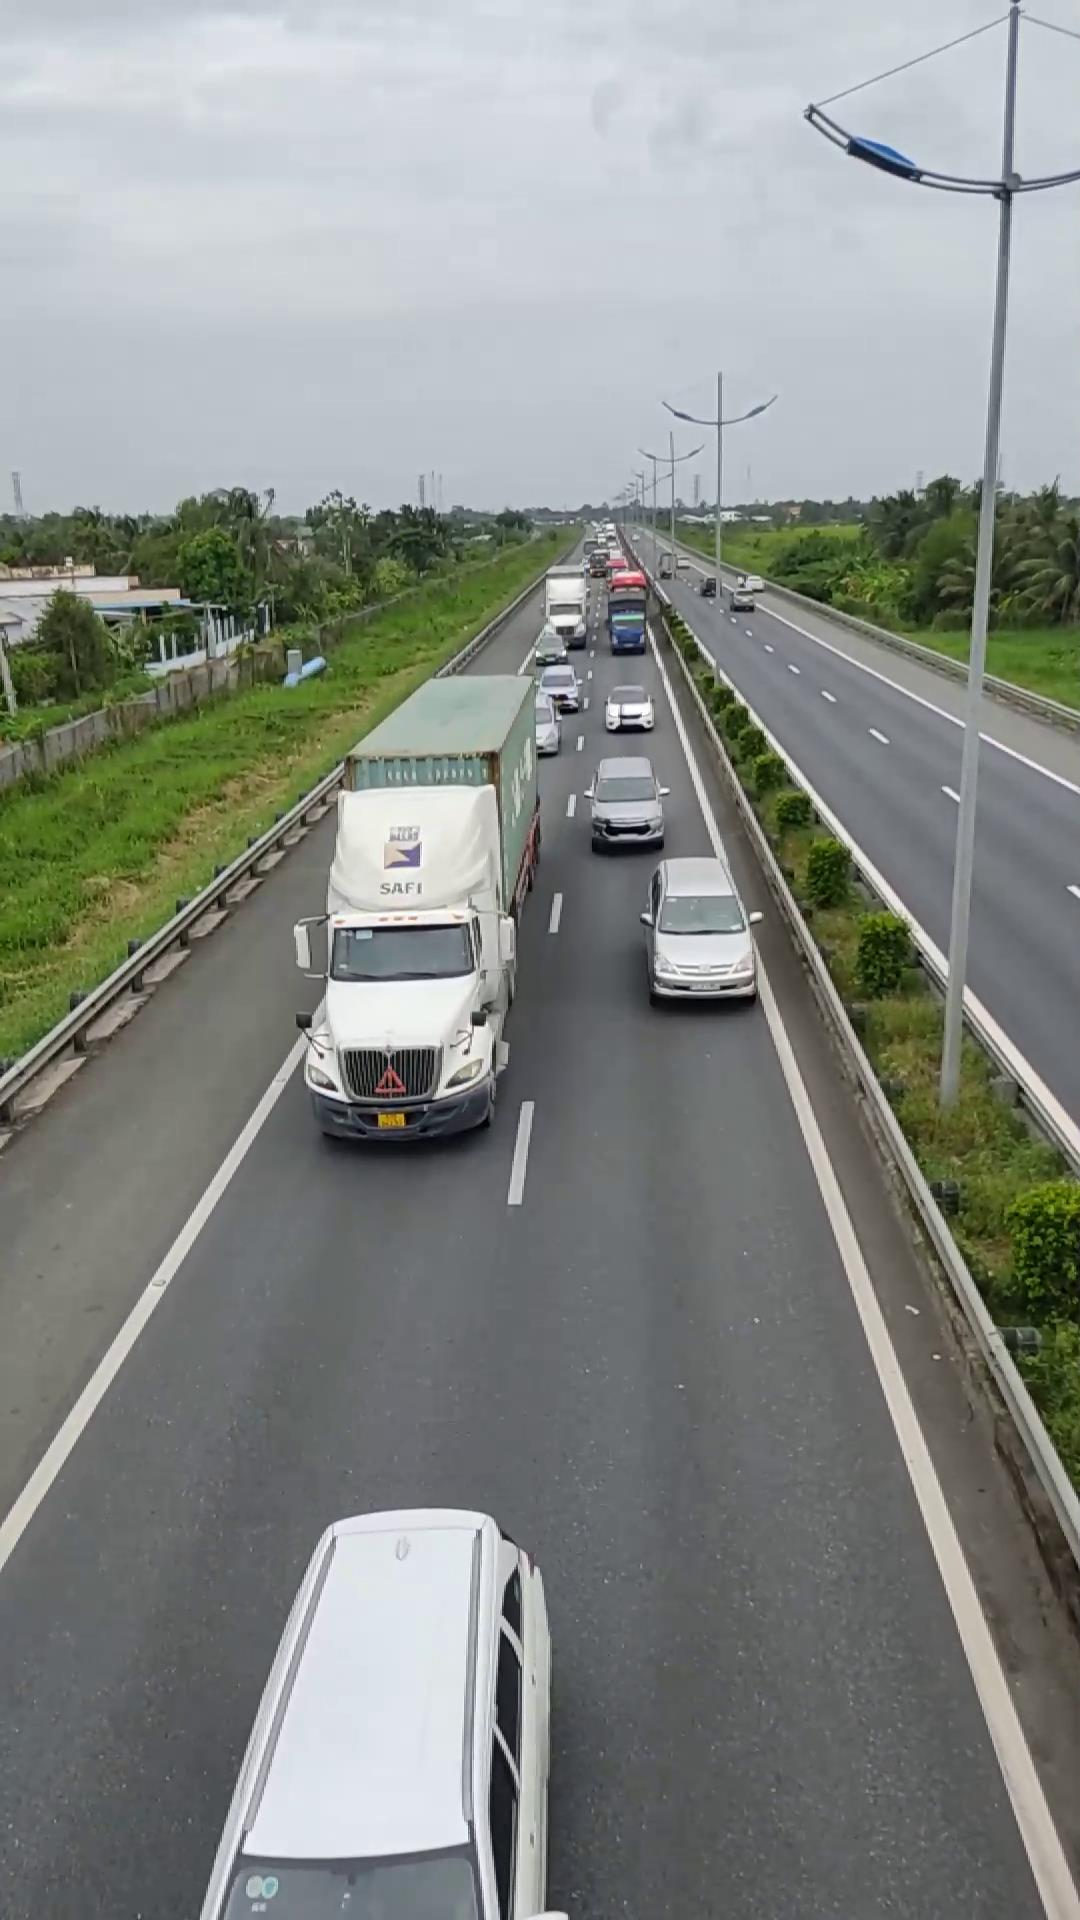car: (193, 1505, 554, 1917), (638, 856, 760, 1007), (580, 758, 668, 851)
container: (299, 667, 538, 1148)
